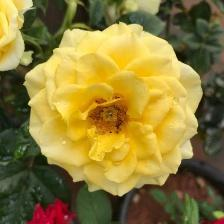rose: (24, 22, 206, 200), (1, 1, 28, 74)
